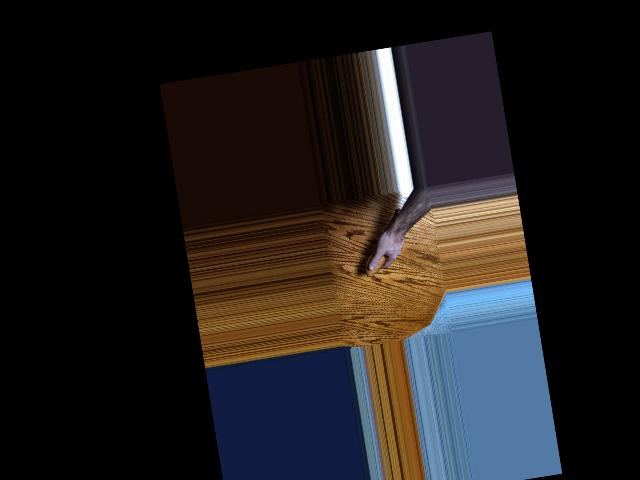sweet_potato: (355, 204, 415, 277)
